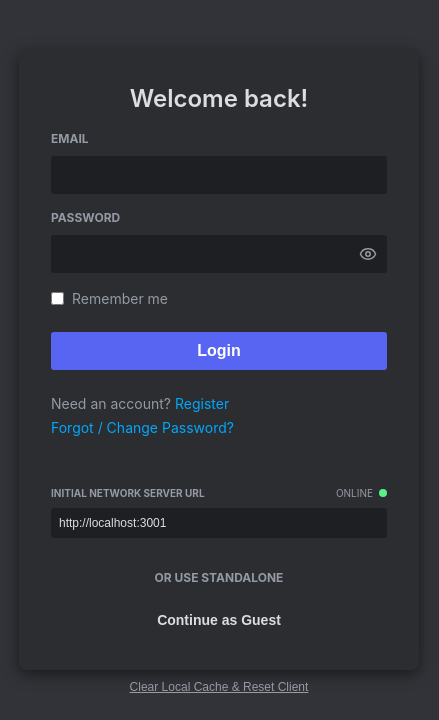
Test case: LoginSignup Component › change-password mode shows "Current Password" field
The width and height of the screenshot is (439, 720).
Expected: the heading "Welcome back!" is shown, [130,84,308,113]
Click the text "Forgot / Change Password?". click: (142, 428)
box: [51,419,234,436]
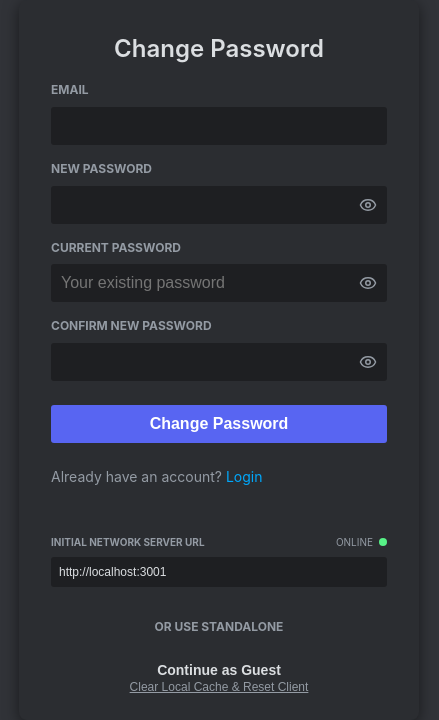
Expected: the password field labelled "New Password" is shown, [51,186,387,224]
Expected: the password field labelled "Current Password" is shown, [51,264,387,302]
Expected: the password field labelled "Confirm New Password" is shown, [51,343,387,381]
